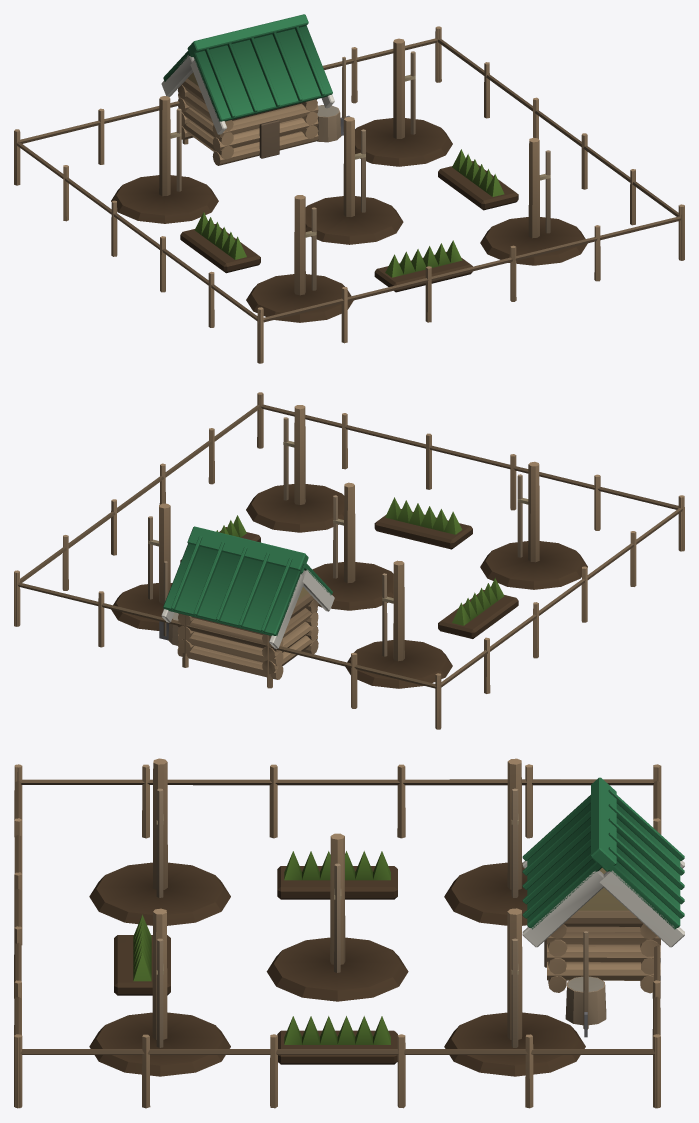
Rendered from bld_roshcha_e2.glb.
3 renders of one model, top to bottom at view 1: azimuth 30°, elevation 25°; view 2: azimuth 150°, elevation 25°; view 3: azimuth 270°, elevation 25°, orthographic. The views are drawn at different scales.
Parts seen in each view (by area): view 1: roshcha; view 2: roshcha; view 3: roshcha.
Boxes of the visible parts, box(x1,y1,x2,y2) form: roshcha: box(14, 14, 684, 363); roshcha: box(14, 392, 684, 729); roshcha: box(14, 758, 684, 1108).
Size of the model in its own units: 1.82 by 0.5087 by 1.89.
